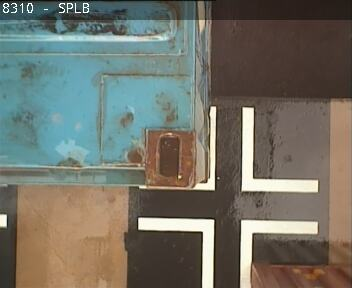groundmarker_1: (137, 107, 318, 194), (138, 216, 318, 288)
